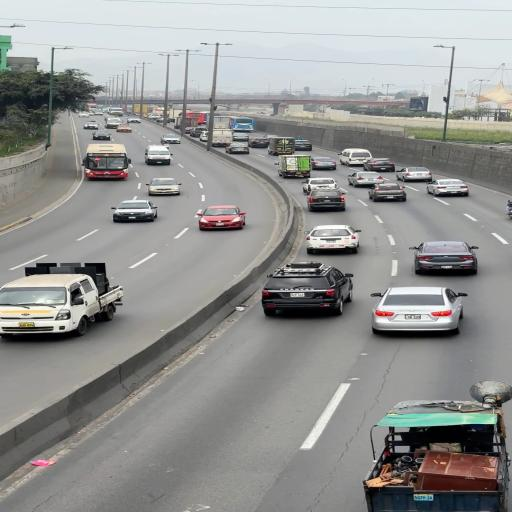auto: (370, 286, 465, 334), (260, 271, 346, 314), (410, 241, 480, 274), (302, 224, 360, 253), (196, 204, 248, 230), (110, 199, 159, 223), (305, 190, 346, 212), (426, 178, 470, 197), (369, 183, 406, 202), (146, 177, 182, 196), (302, 177, 340, 195), (347, 171, 385, 188), (395, 166, 432, 182), (362, 158, 394, 172), (310, 157, 337, 170), (227, 143, 250, 154), (160, 133, 181, 145), (293, 140, 312, 151), (249, 136, 271, 145), (231, 132, 250, 142), (92, 130, 110, 140), (115, 124, 132, 132), (84, 120, 99, 129), (189, 128, 204, 137), (198, 131, 210, 141), (118, 120, 130, 126), (127, 118, 141, 123)
bus: (81, 143, 131, 179), (277, 154, 314, 178), (338, 148, 372, 166), (144, 145, 174, 165), (203, 128, 235, 146), (178, 110, 206, 124), (231, 117, 254, 132), (105, 118, 122, 128), (151, 107, 165, 119), (85, 104, 99, 114), (108, 108, 124, 116), (97, 105, 111, 113)
camion: (0, 264, 124, 340), (267, 136, 297, 155), (210, 115, 234, 132), (130, 104, 158, 115)
